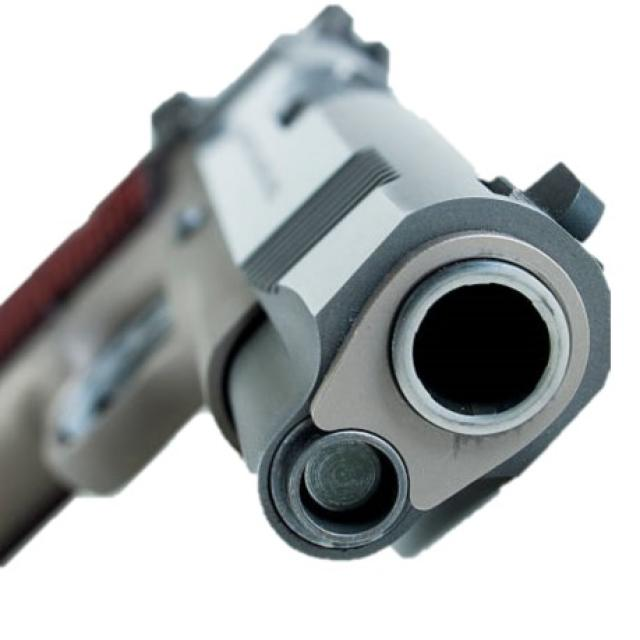pistol: (1, 1, 617, 581)
